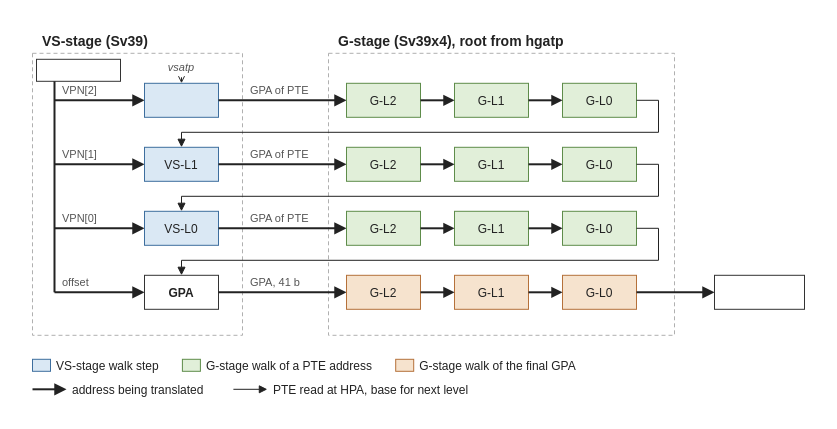
This 837x429 diagram has some shape labels left out. Here are the shapes that lost their labels. From the top down, the centre of each, then its label:
[78,69]: GVA, 39 b
[181,99]: VS-L2
[759,291]: HPA, 48 b
